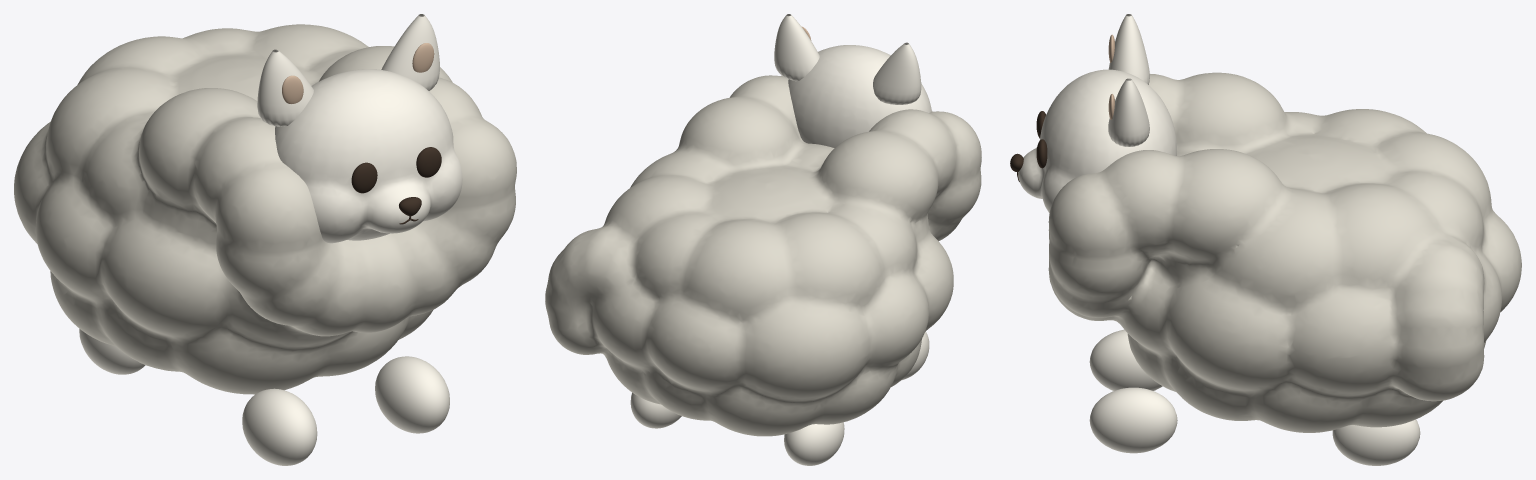
Rendered from cotton-puppy.glb.
The picture shows the model from 3 angles, left to right: view 1: azimuth 30°, elevation 25°; view 2: azimuth 150°, elevation 25°; view 3: azimuth 270°, elevation 25°; orthographic projection. The views are drawn at different scales.
Parts seen in each view (by area): view 1: Warm ivory cloud coat, Cream puppy face, Cocoa facial details, Soft biscuit ear; view 2: Warm ivory cloud coat, Cream puppy face; view 3: Warm ivory cloud coat, Cream puppy face, Cocoa facial details.
Boxes of the visible parts, left/top/right/bottom form: Warm ivory cloud coat: left=14, top=24, right=516, bottom=394; Cream puppy face: left=79, top=14, right=462, bottom=465; Cocoa facial details: left=351, top=147, right=441, bottom=224; Soft biscuit ear: left=282, top=43, right=434, bottom=103; Warm ivory cloud coat: left=545, top=75, right=981, bottom=436; Cream puppy face: left=630, top=14, right=932, bottom=465; Warm ivory cloud coat: left=1048, top=72, right=1521, bottom=432; Cream puppy face: left=1018, top=14, right=1420, bottom=465; Cocoa facial details: left=1010, top=111, right=1047, bottom=181.
Bounding box in the file's own units: 1.78 × 1.79 × 2.21.
